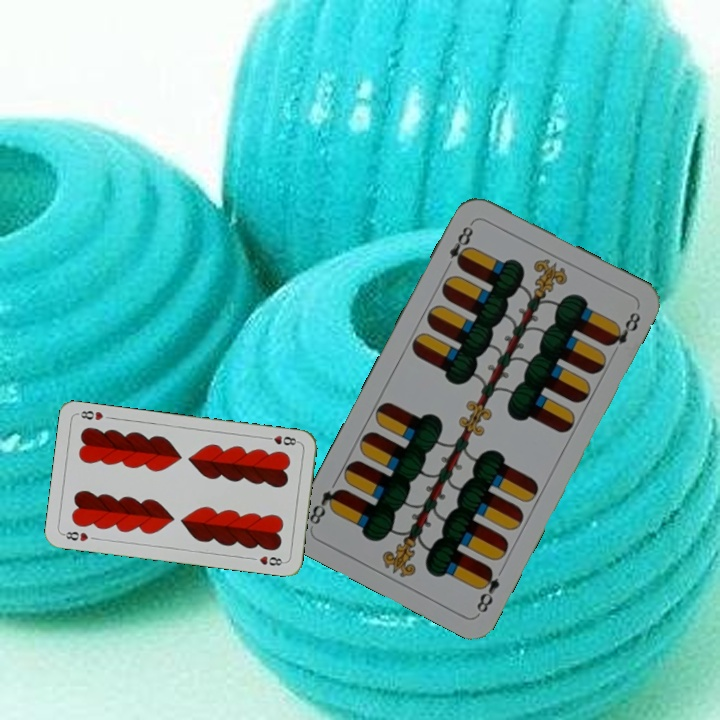E8: (441, 218, 476, 273), (472, 563, 502, 616)
H8: (261, 431, 301, 448), (59, 527, 91, 544)
